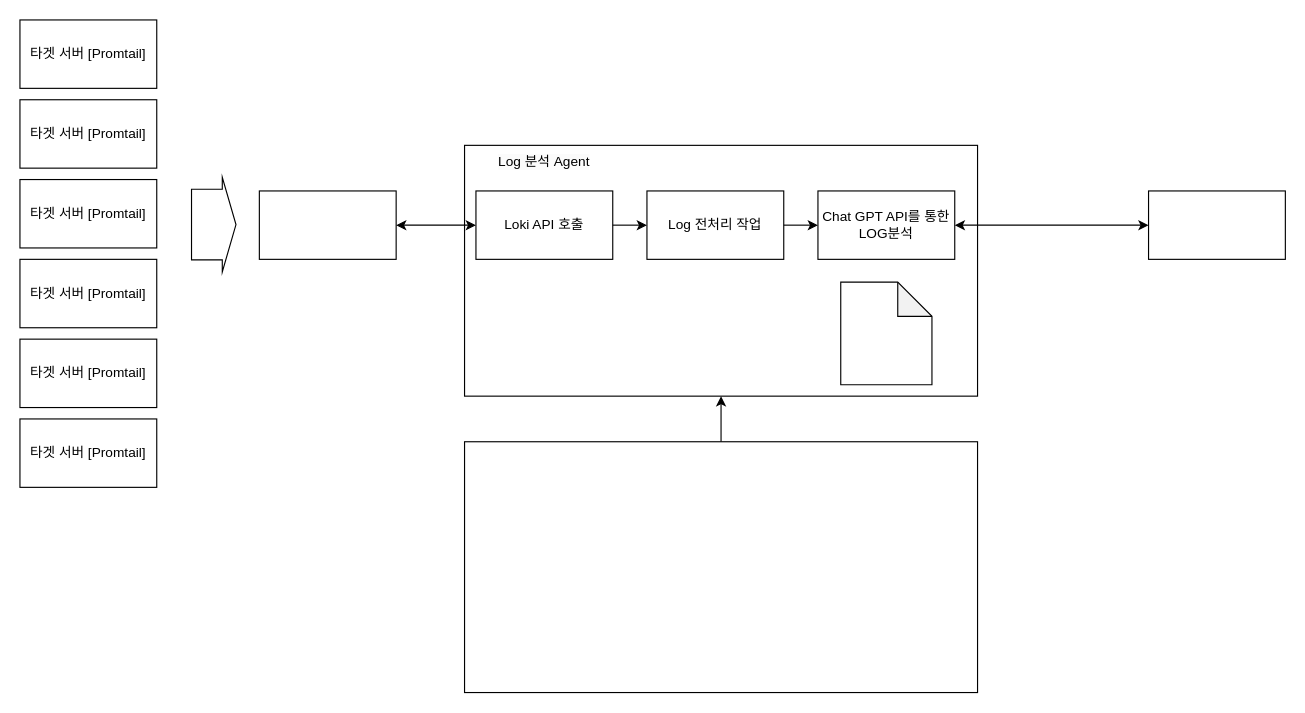
This 1305x713 diagram has some shape labels left out. The box of each missing label's shape, as (x1, y1, x2, y2) in pixels:
Chat GPT: (1147, 190, 1285, 259)
Log 분석 file: (840, 281, 932, 385)
Loki 로그 통합: (258, 190, 396, 259)
분석 file을 통한 발송: (463, 441, 978, 693)
